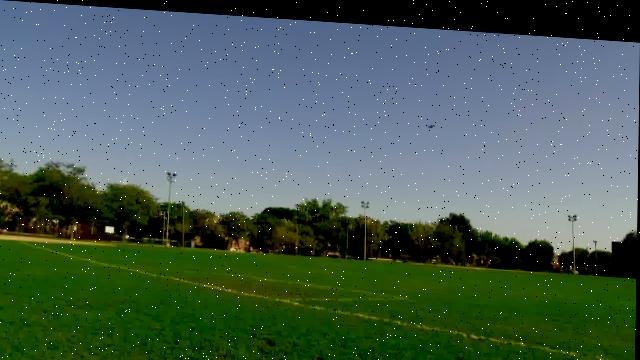drone: (419, 115, 445, 126)
